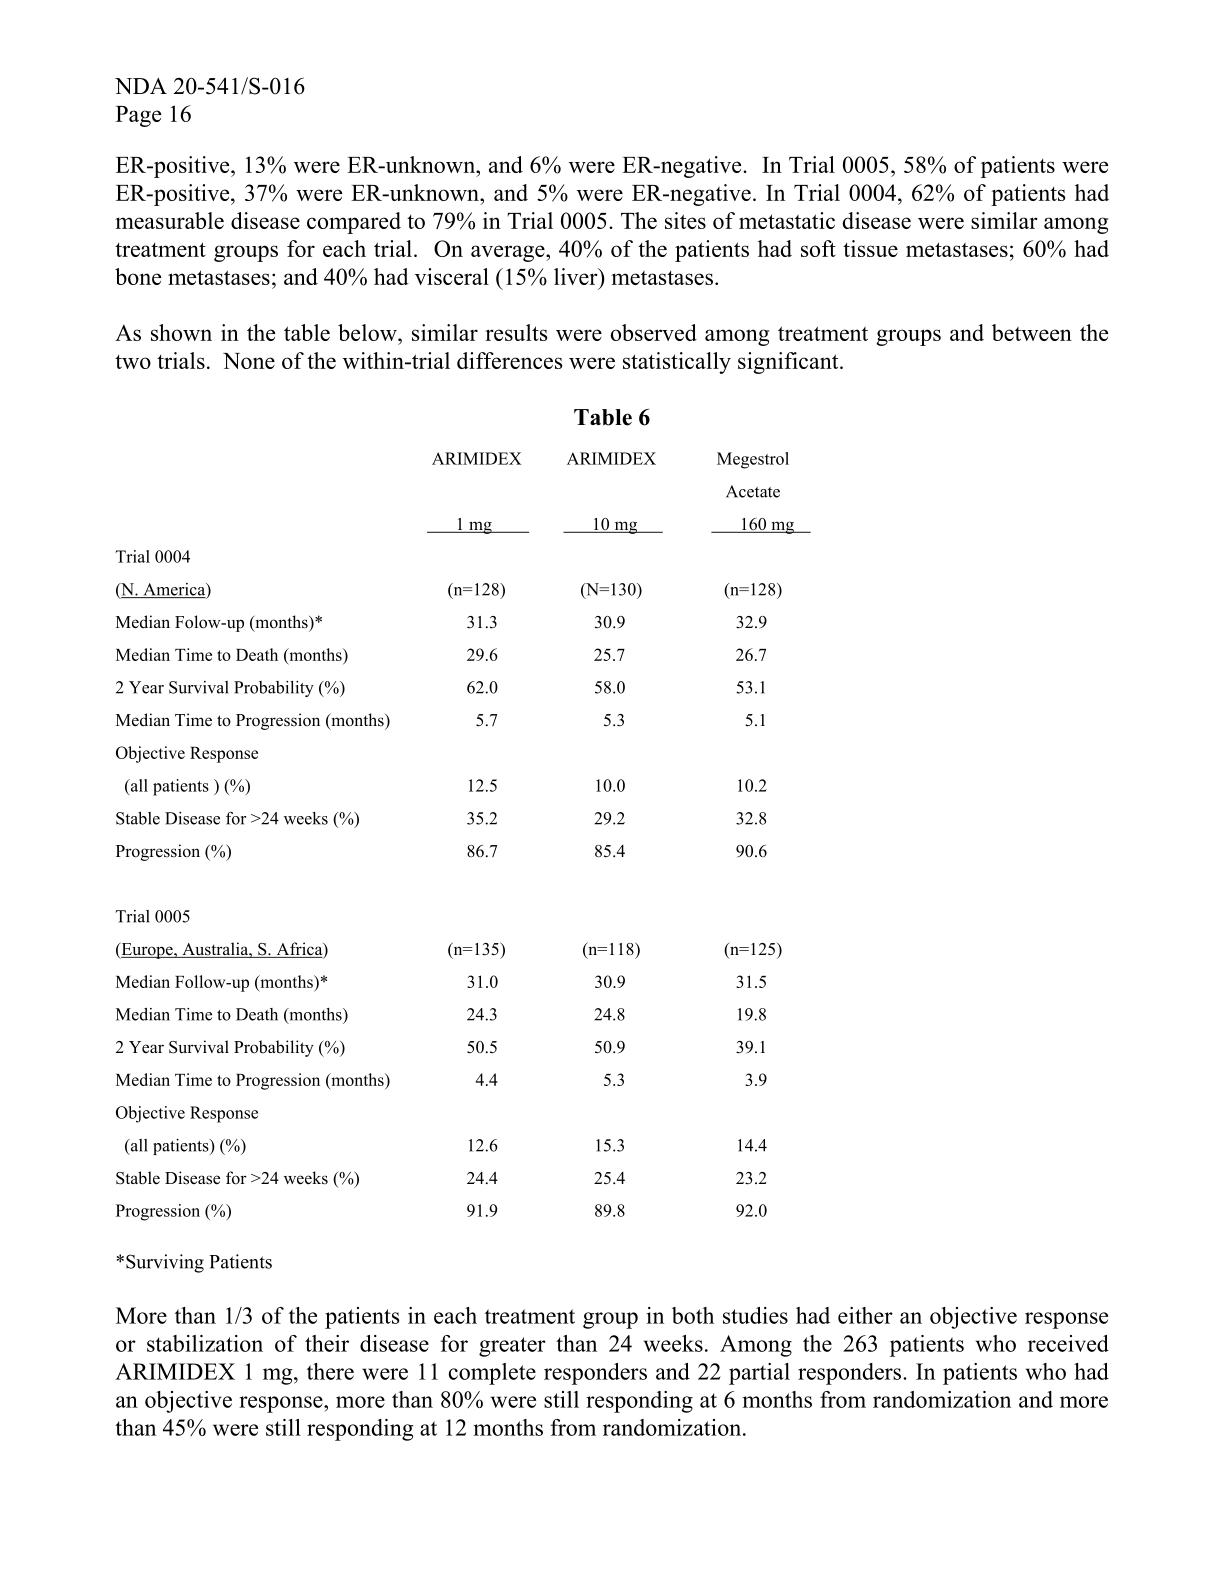nolines: (111, 445, 811, 1227)
